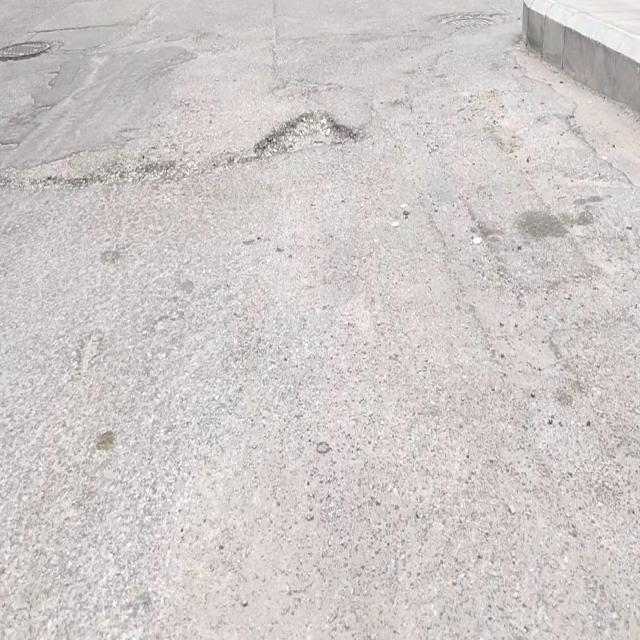Potholes: (260, 108, 356, 156)
